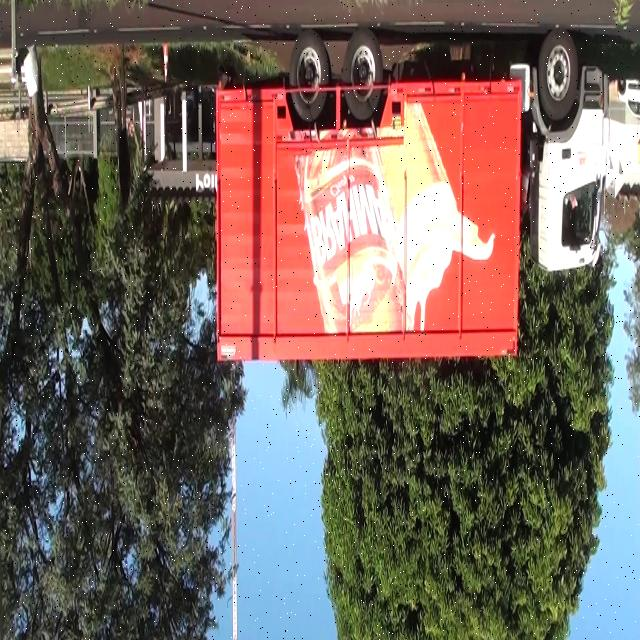-axle: (539, 30, 578, 120), (292, 37, 331, 122), (344, 34, 383, 118)
